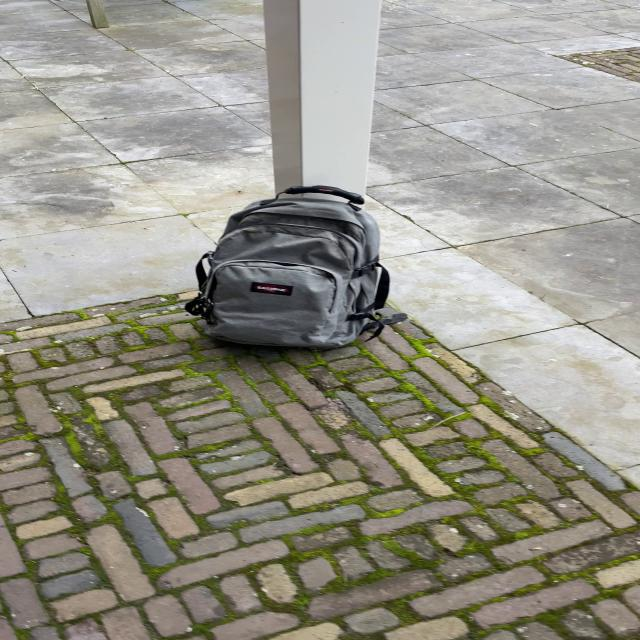backpack: (182, 180, 402, 356)
